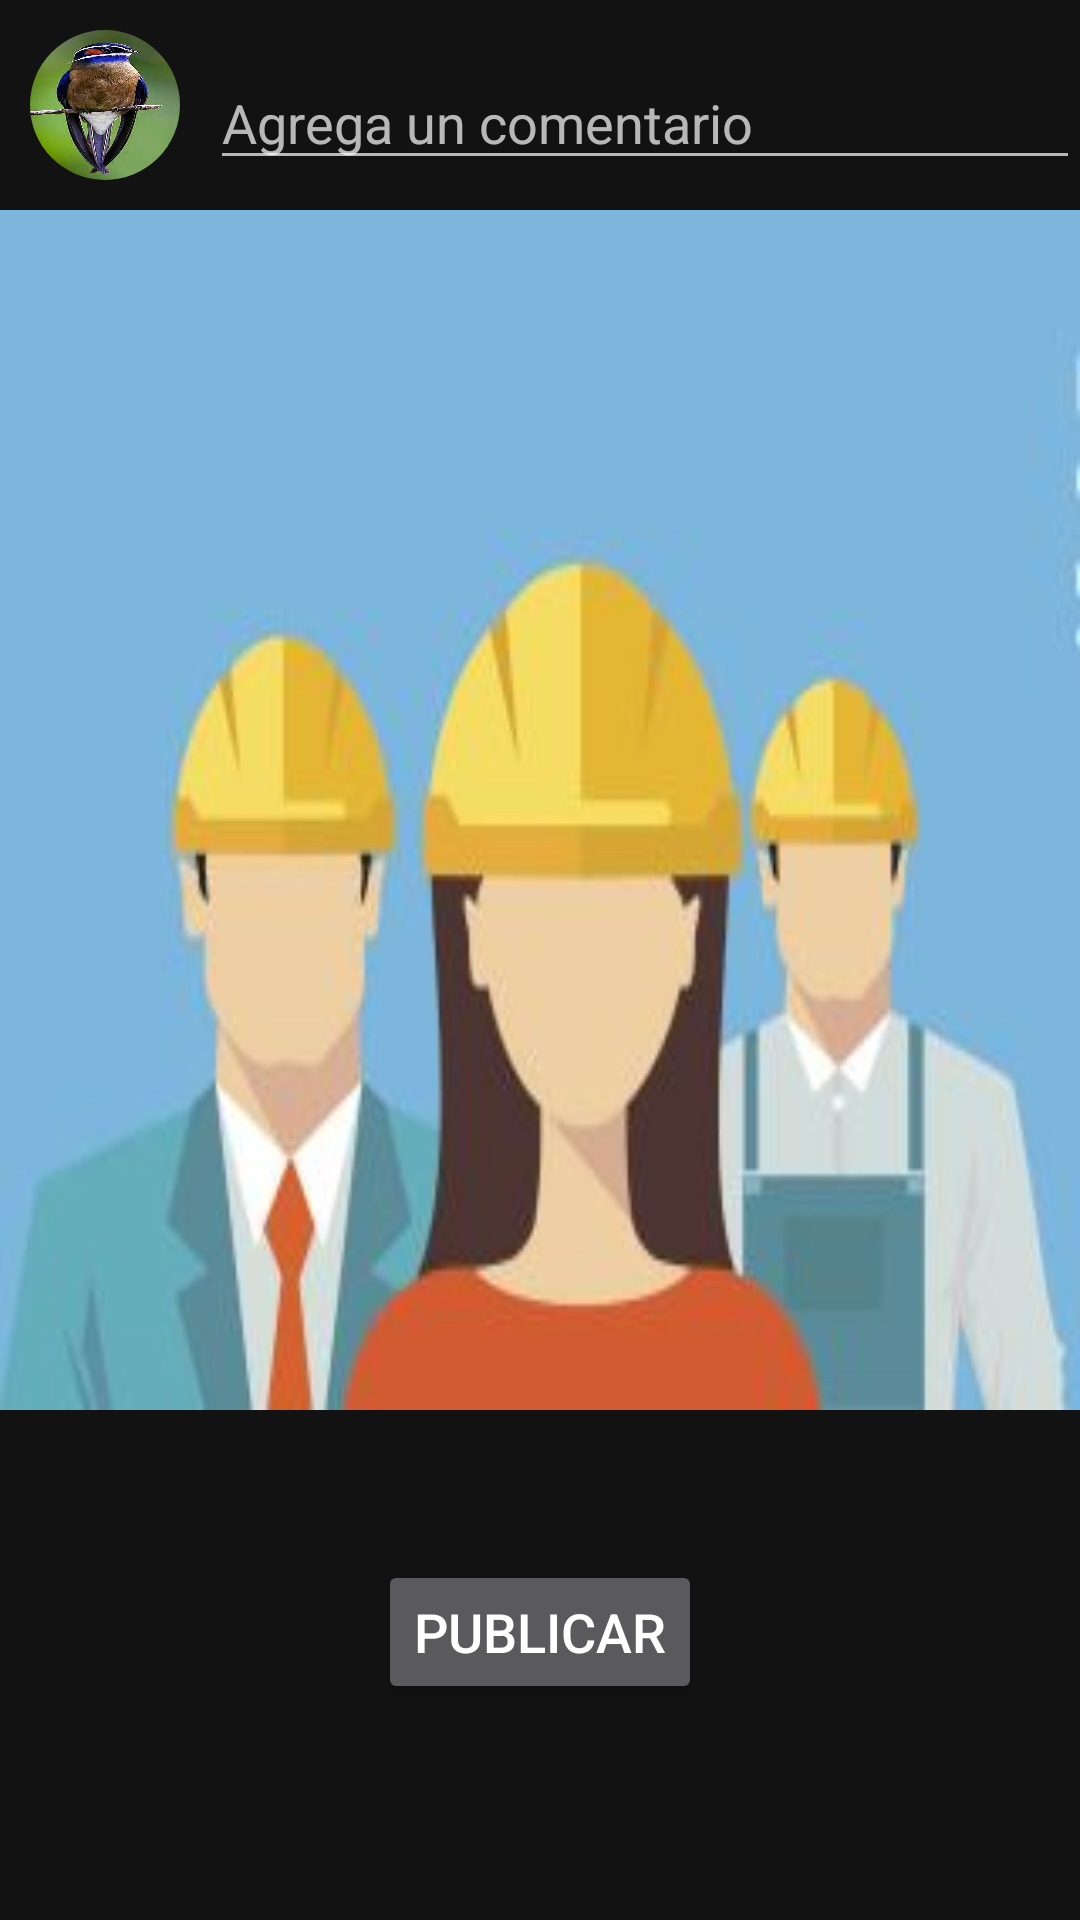

Icon bounding boxes for this 1080 x 1920 phone screenshot, format (x1, y1, x2, y2):
pajaro: (30, 30, 180, 180)
